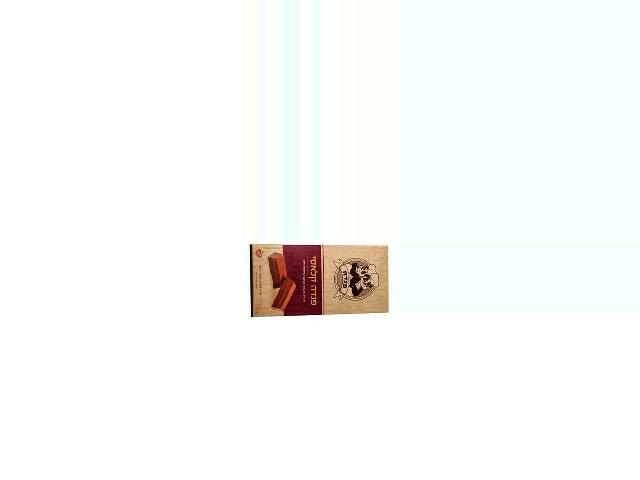chocolate: (249, 246, 389, 319)
